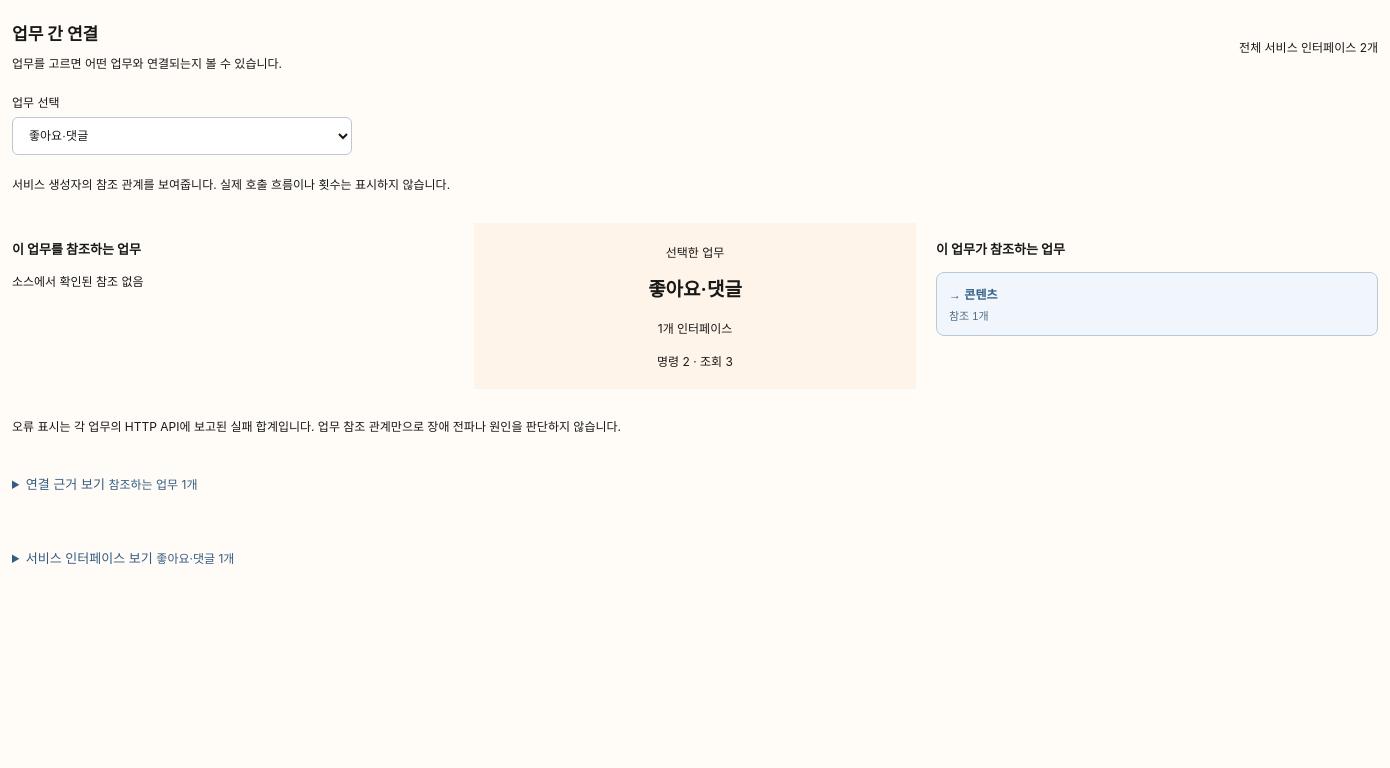
renders actual backend integer role counts and constructor dependency evidence
Check: the text "명령 2 · 조회 3" is shown, box [657, 354, 733, 369]
Click the heading "연결 근거 보기 참조하는 업무 1개".
click(112, 484)  # box [26, 476, 198, 492]
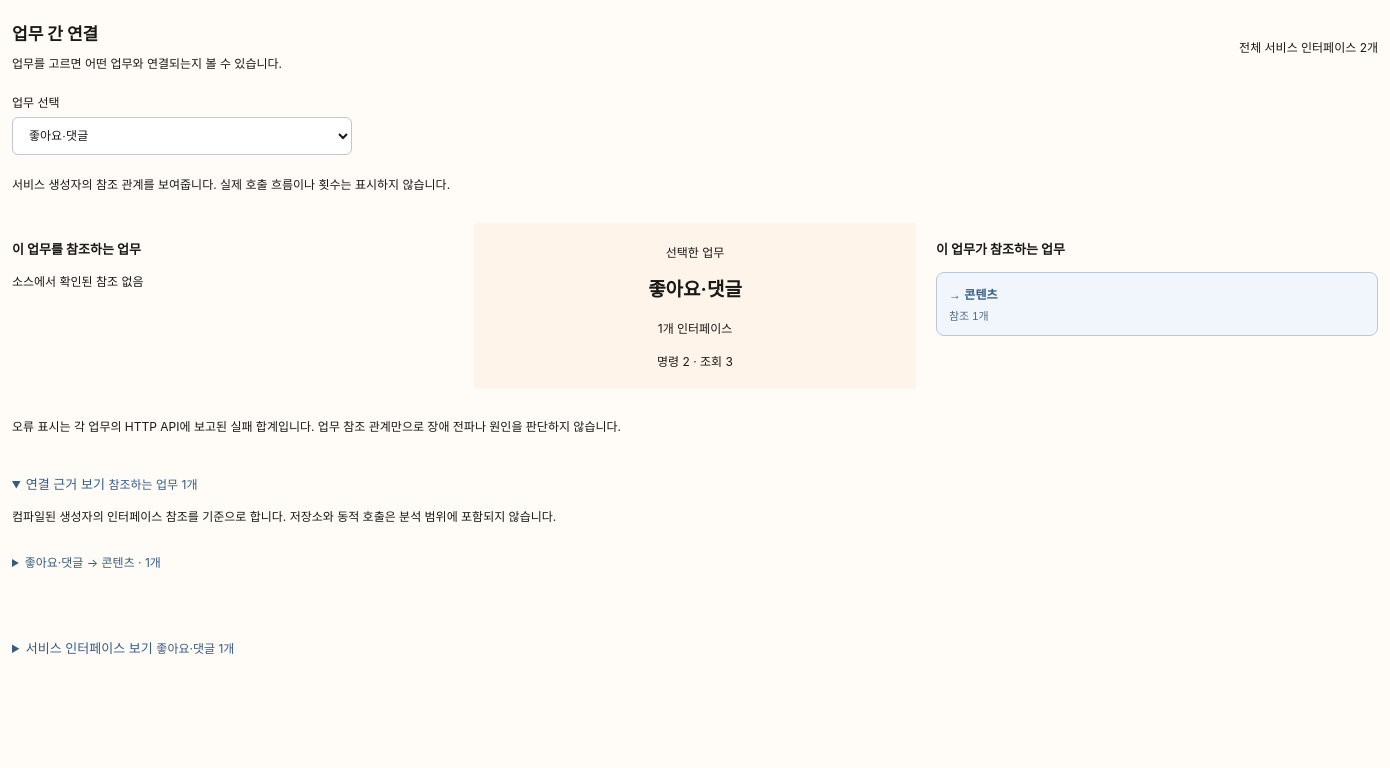
Click the heading "서비스 인터페이스 보기 좋아요·댓글 1개".
click(130, 648)  # box [26, 640, 234, 656]
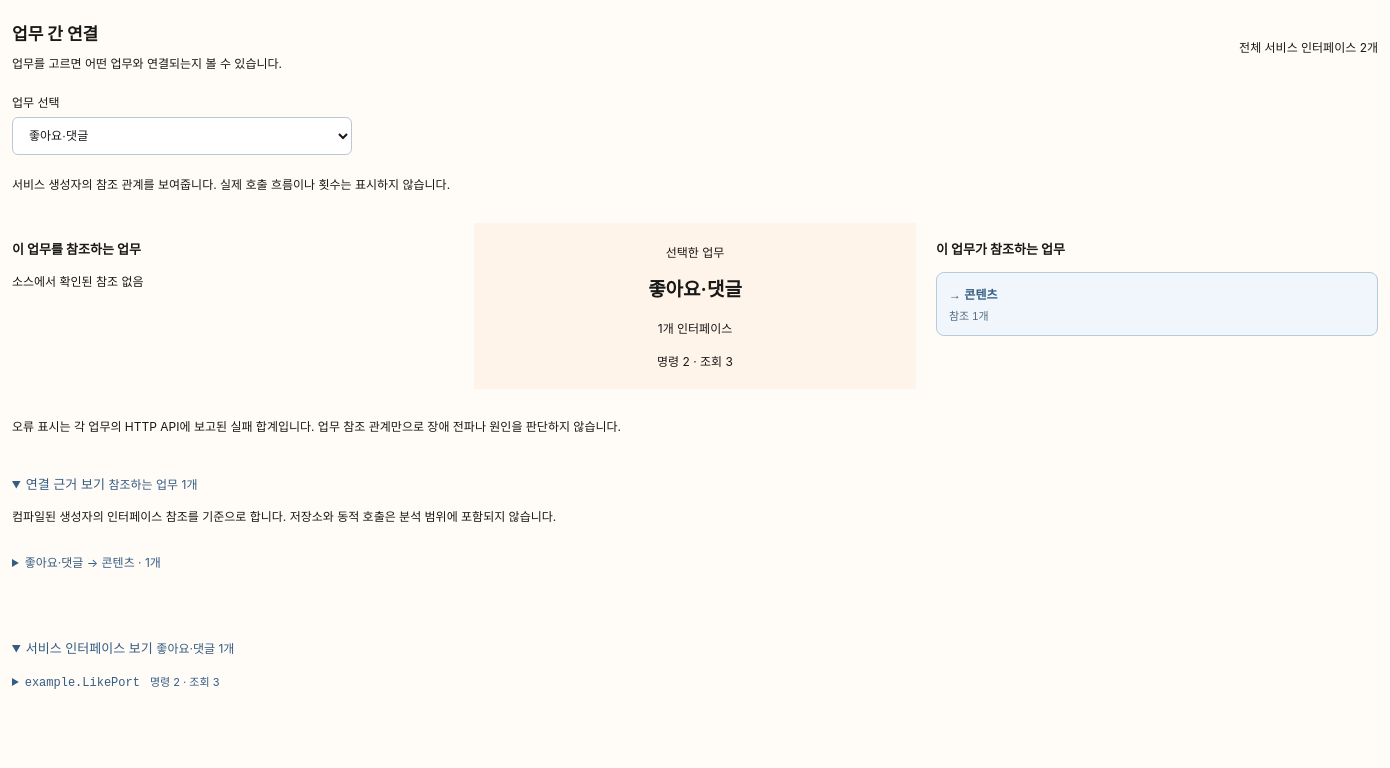
Check: the text "연결 근거 보기" has attribute open, box [12, 476, 556, 570]
Check: the text "서비스 인터페이스 보기" has attribute open, box [25, 640, 234, 690]
Click the button "→ 콘텐츠 참조 1개".
click(981, 295)  # box [936, 272, 1378, 336]
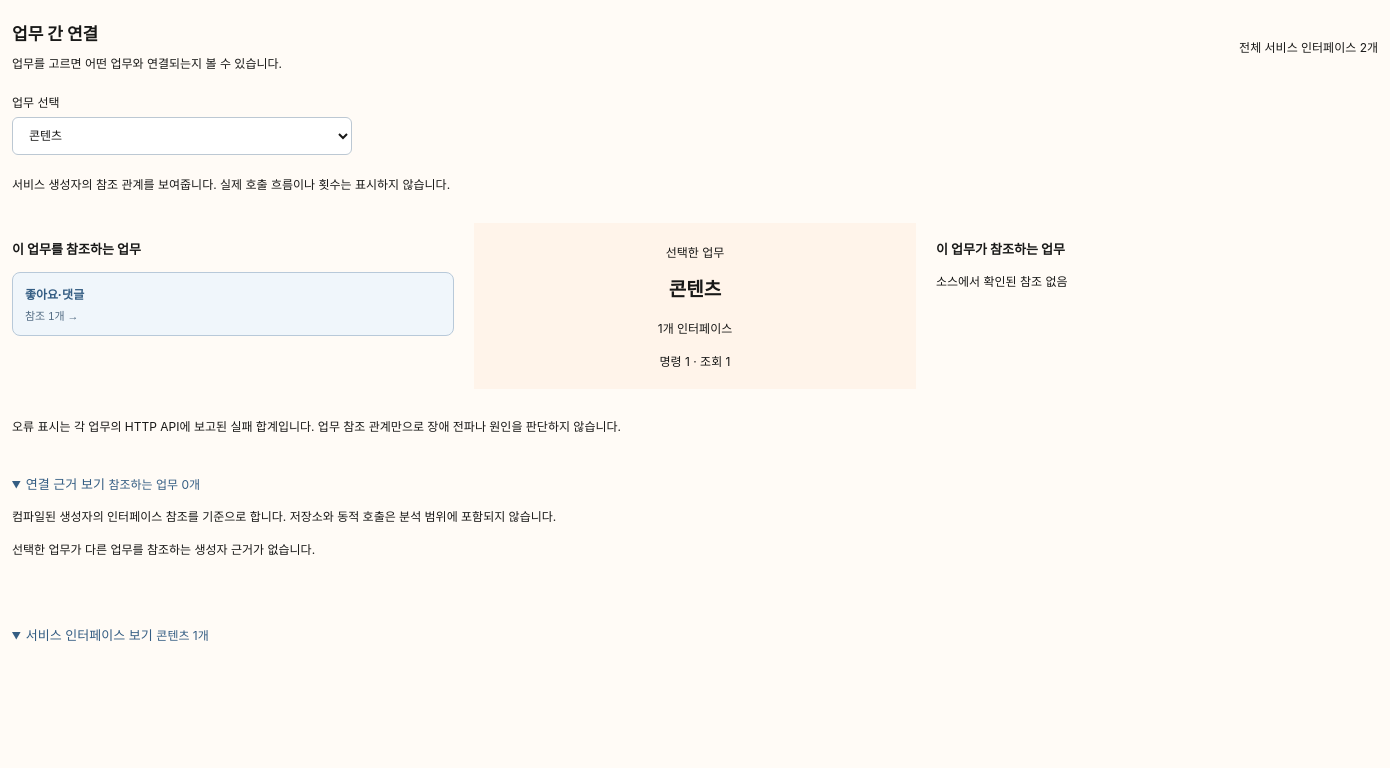
Check: the text "명령 1 · 조회 1" is shown, box [660, 354, 730, 369]
Check: the button "좋아요·댓글 참조 1개 →" is shown, box [12, 272, 454, 336]
